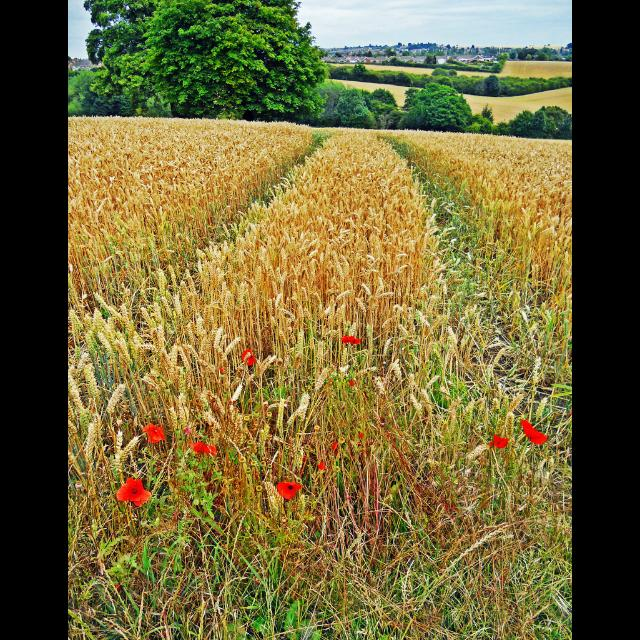Flower: (116, 478, 150, 504), (520, 420, 550, 448), (144, 422, 166, 446), (277, 481, 301, 501), (191, 442, 221, 456), (492, 436, 508, 450), (243, 350, 255, 366), (344, 338, 362, 346)
